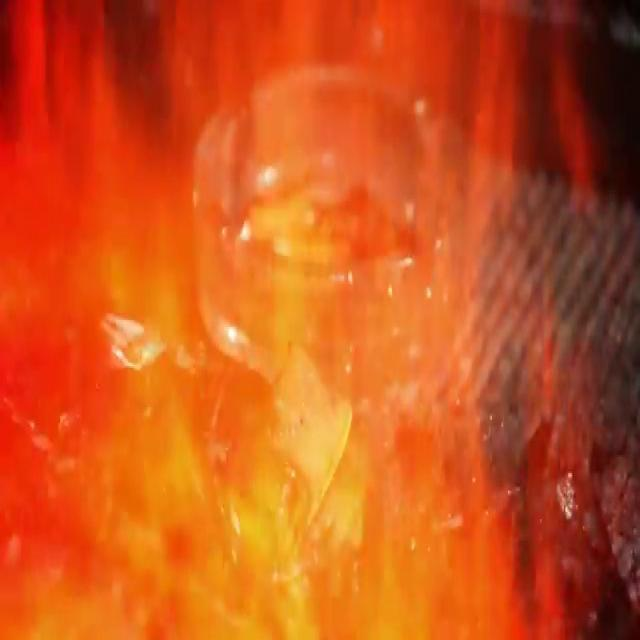fire: (186, 164, 378, 598)
